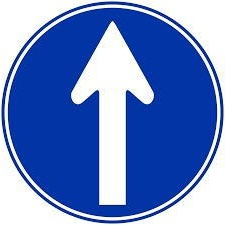Direction_sign: (1, 1, 224, 221)
